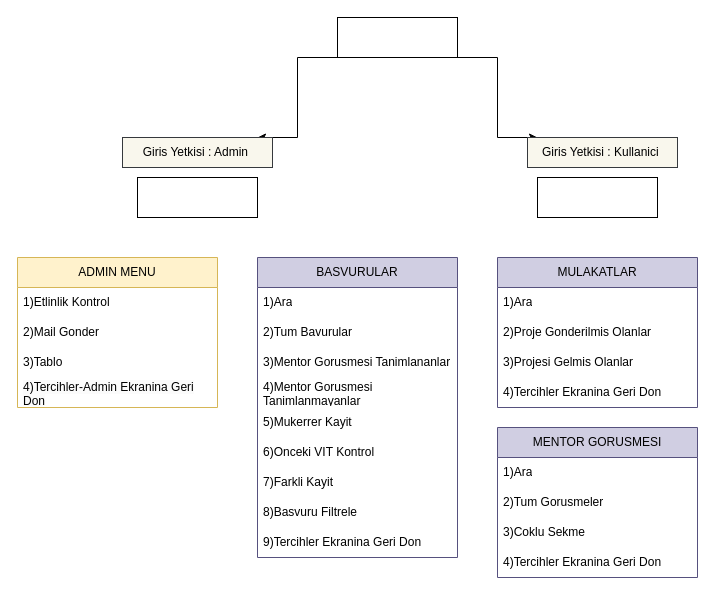
Some shapes in this 715 by 595 pixel diagram are drawn without their labels. Here are the shapes that lost their labels. From the top down, the centre of each, then its label:
At [397,37]: "GIRIS PENCERESI".
At [197,197]: "TERCIHLER-ADMIN".
At [597,197]: "TERCIHLER".
